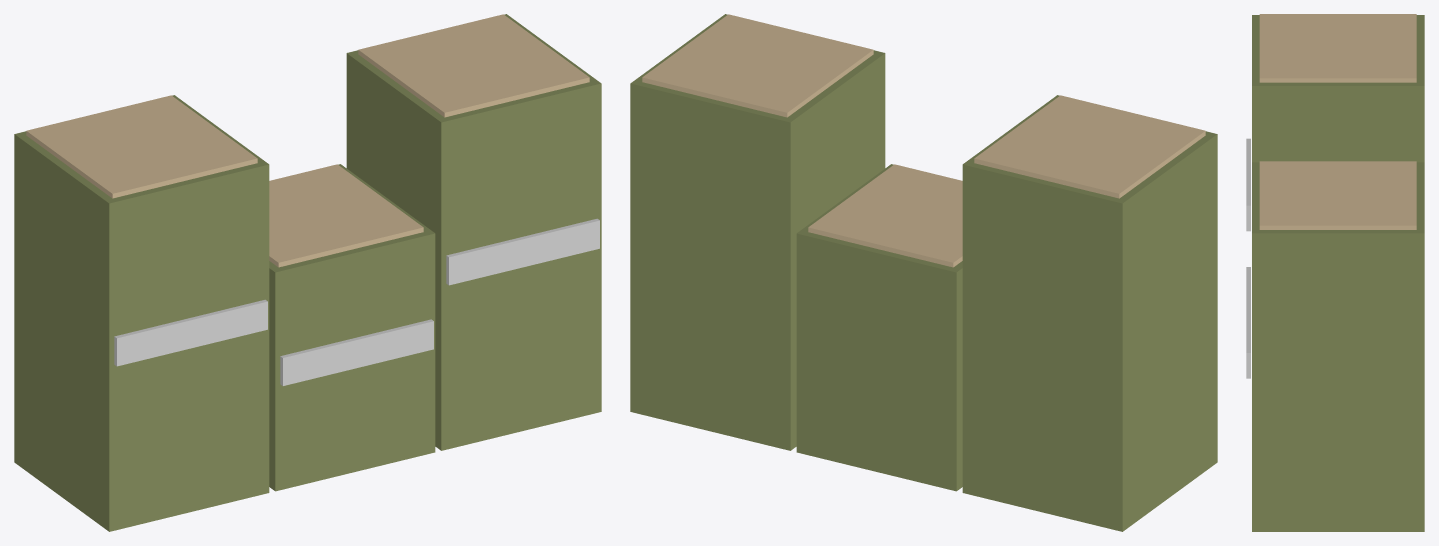
Rendered from SM_HescoCorto3_v2_Escalonado_e0_Sano_LOD1.fbx.
3 renders of one model, left to right at view 1: azimuth 30°, elevation 25°; view 2: azimuth 150°, elevation 25°; view 3: azimuth 270°, elevation 25°, orthographic. The views are drawn at different scales.
Visible parts, largest first — view 1: SM_hesco_piezas_v88_LOD1; view 2: SM_hesco_piezas_v88_LOD1; view 3: SM_hesco_piezas_v88_LOD1.
Boxes of the visible parts, box(x1,y1,x2,y2) form: SM_hesco_piezas_v88_LOD1: box(14, 14, 601, 531); SM_hesco_piezas_v88_LOD1: box(630, 14, 1217, 531); SM_hesco_piezas_v88_LOD1: box(1246, 14, 1424, 531).
Size of the model in its own units: 3.29 by 2.13 by 1.13.
